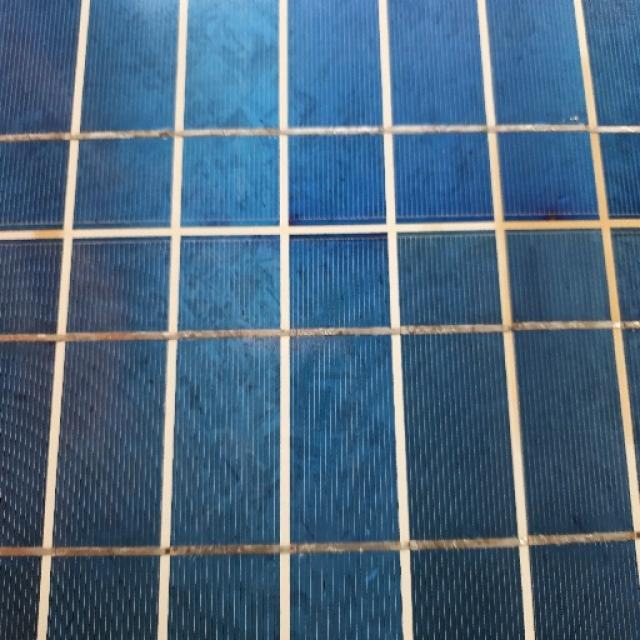Clean: (0, 65, 640, 640), (4, 37, 10, 52)
